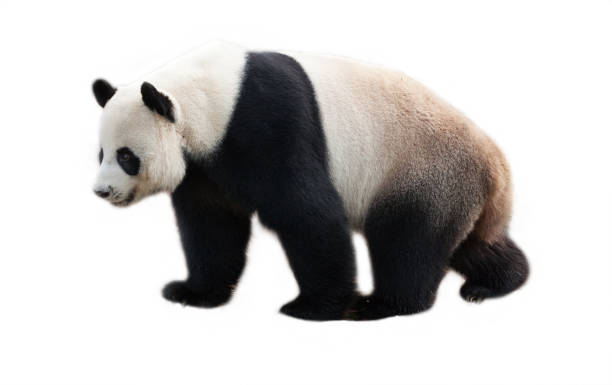panda: (73, 71, 193, 214)
